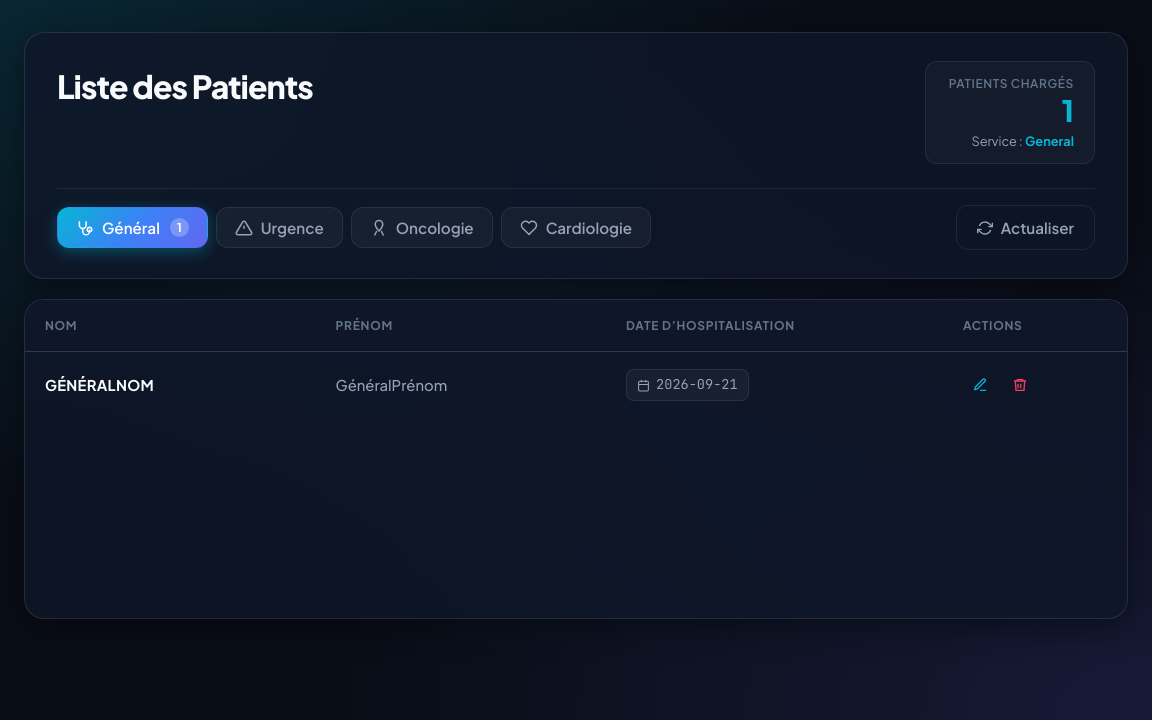
Test: PatientsView service tabs › deletes the selected patient and displays success feedback
Click the button named "Supprimer GénéralPrénom GénéralNom" at (1020, 385), box [1003, 368, 1037, 402]
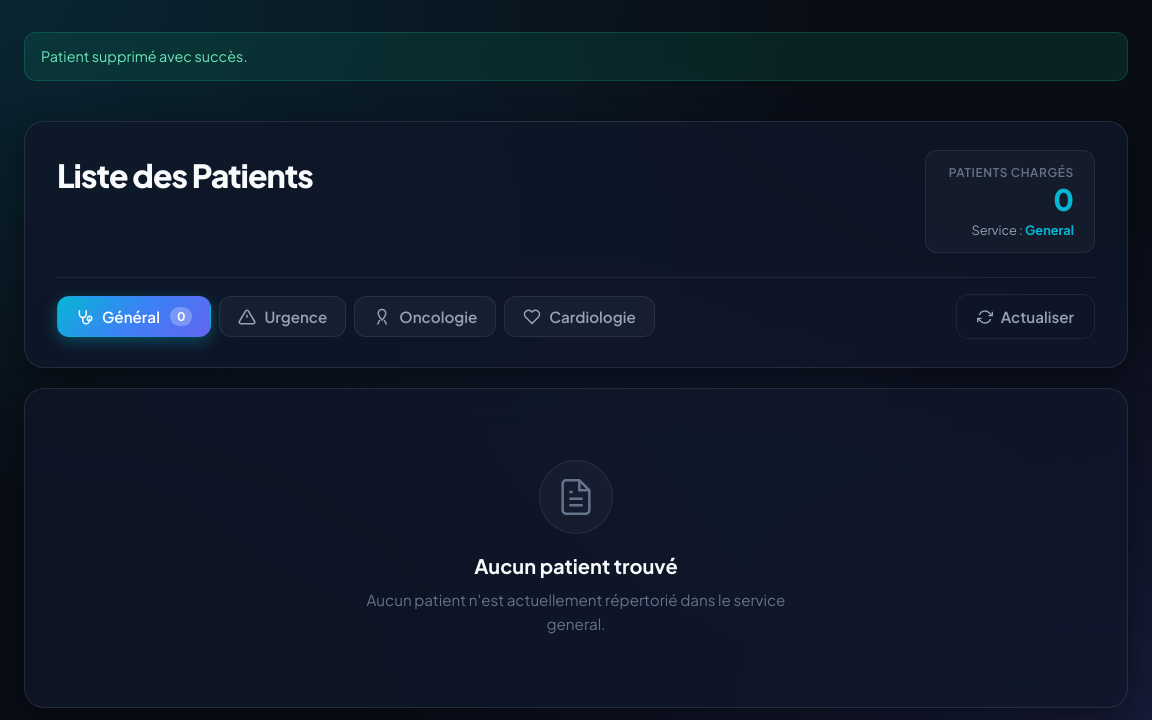
Now the message "Patient supprimé avec succès." is shown, box [24, 32, 1128, 81]
